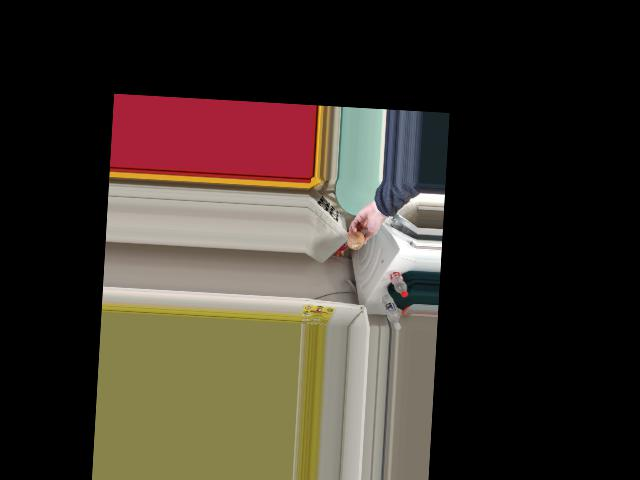sweet_potato: (348, 228, 365, 249)
